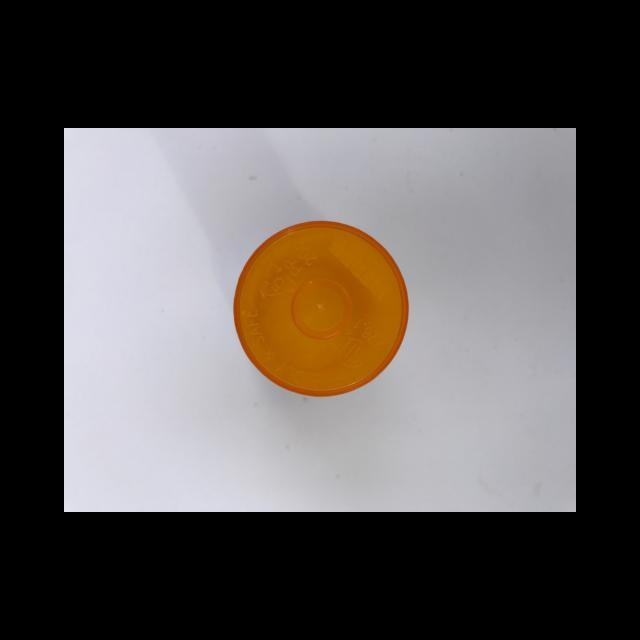plastic: (233, 220, 408, 396)
